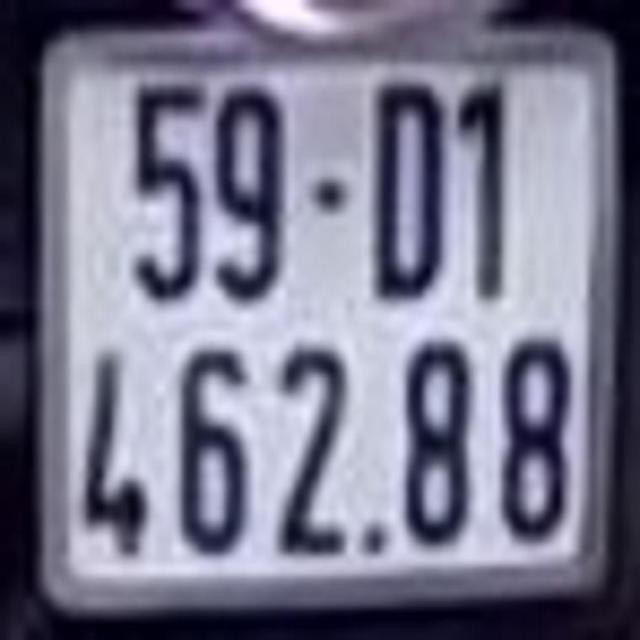1: (459, 84, 509, 295)
2: (276, 344, 347, 553)
4: (85, 354, 151, 554)
5: (138, 85, 201, 298)
6: (178, 348, 250, 556)
8: (405, 342, 465, 542), (504, 338, 564, 537)
9: (213, 87, 278, 299)
D: (375, 85, 441, 294)
